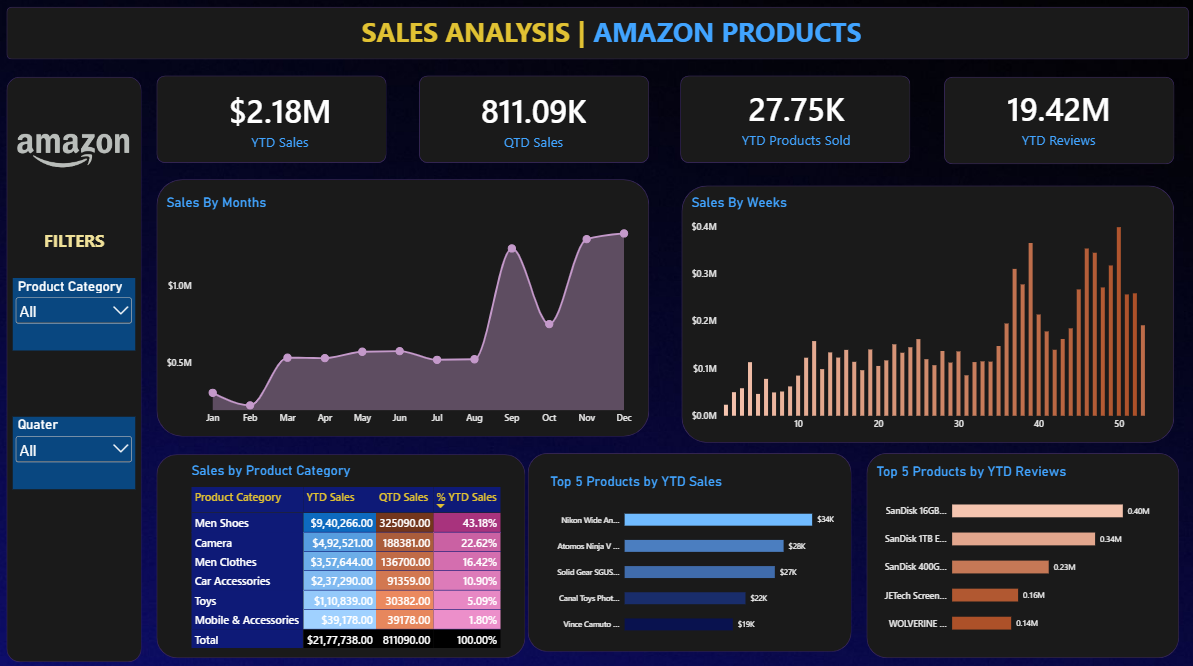

The page's visual inventory and layout, read from the dashboard file:
{"tool":"powerbi","page":{"name":"Amazon Products Sales","canvas":[1920,1080],"ordinal":0},"visuals":[{"type":"shape","box":[12.3,14.4,1891.6,84.4],"z":0},{"type":"textbox","title":"SALES ANALYSIS | AMAZON PRODUCTS","box":[580,23.3,811,63.8],"z":1000},{"type":"shape","box":[12.3,125.6,216.1,936.5],"z":2000},{"type":"shape","box":[251.1,123.5,368,140],"z":3000},{"type":"cardVisual","fields":{"Data":["Amazon_Data.YTD Sales"]},"box":[319,148.2,259.3,94.7],"z":4000},{"type":"shape","box":[671,123.5,368,140],"z":5000},{"type":"shape","box":[1090.9,123.5,368,140],"z":6000},{"type":"shape","box":[1511.7,125,368.4,140],"z":7000},{"type":"cardVisual","fields":{"Data":["Amazon_Data.QTD Sales"]},"box":[726.6,148.2,259.3,94.7],"z":8000},{"type":"cardVisual","fields":{"Data":["Amazon_Data.YTD Products Sold"]},"box":[1146.5,146.1,259.3,94.7],"z":9000},{"type":"cardVisual","fields":{"Data":["Amazon_Data.YTD Reviews"]},"box":[1566.7,146.7,259.3,94.7],"z":10000},{"type":"shape","box":[251.1,290.2,788.3,411.7],"z":11000},{"type":"stackedAreaChart","title":"Sales By Months","fields":{"Category":["Date Table.Month Name"],"Y":["Sum(Amazon_Data.Price(Dollar))"]},"box":[252,300,788,402],"z":12000},{"type":"shape","box":[1091.3,300,788.3,411.7],"z":13000},{"type":"columnChart","title":"Sales By Weeks","fields":{"Category":["Date Table.Week"],"Y":["Sum(Amazon_Data.Price(Dollar))"]},"box":[1092,300,788,412],"z":14000},{"type":"shape","box":[252.5,730,590,326],"z":15000},{"type":"pivotTable","title":"Sales by Product Category","fields":{"Rows":["Amazon_Data.Product Category"],"Values":["Amazon_Data.YTD Sales1","Amazon_Data.QTD Sales","Amazon_Data.YTD Sales"]},"box":[292.5,727.5,574,336],"z":16000},{"type":"shape","box":[846,728,518,318],"z":17000},{"type":"shape","box":[1388,728,500,328],"z":18000},{"type":"clusteredBarChart","title":"Top 5 Products by YTD Sales","fields":{"Category":["Amazon_Data.Product Description"],"Y":["Amazon_Data.YTD Sales"]},"box":[866,746,486,300],"z":19000},{"type":"clusteredBarChart","title":"Top 5 Products by YTD Reviews","fields":{"Category":["Amazon_Data.Product Description"],"Y":["Amazon_Data.YTD Reviews"]},"box":[1388,730,492,316],"z":20000},{"type":"slicer","fields":{"Values":["Amazon_Data.Product Category"]},"box":[22,448,195.7,115.7],"z":21000},{"type":"slicer","fields":{"Values":["Date Table.Qtr"]},"box":[22,670,195.7,115.7],"z":22000},{"type":"textbox","title":"SALES ANALYSIS | AMAZON PRODUCTS","box":[72,370,110,42],"z":23000},{"type":"image","box":[18,196,206,106],"z":24000}]}

Visuals, with their boxes in screenshot pixels (x1, y1, x2, y2), scaled from the page's 1920x1080 canvas onto the 1193x666 screenshot:
shape: select_region(8, 9, 1183, 61)
"SALES ANALYSIS | AMAZON PRODUCTS" textbox: select_region(360, 14, 864, 54)
shape: select_region(8, 77, 142, 655)
shape: select_region(156, 76, 385, 162)
cardVisual - Amazon_Data.YTD Sales: select_region(198, 91, 359, 150)
shape: select_region(417, 76, 646, 162)
shape: select_region(678, 76, 906, 162)
shape: select_region(939, 77, 1168, 163)
cardVisual - Amazon_Data.QTD Sales: select_region(451, 91, 613, 150)
cardVisual - Amazon_Data.YTD Products Sold: select_region(712, 90, 873, 148)
cardVisual - Amazon_Data.YTD Reviews: select_region(973, 90, 1135, 149)
shape: select_region(156, 179, 646, 433)
"Sales By Months" stackedAreaChart: select_region(157, 185, 646, 433)
shape: select_region(678, 185, 1168, 439)
"Sales By Weeks" columnChart: select_region(679, 185, 1168, 439)
shape: select_region(157, 450, 523, 651)
"Sales by Product Category" pivotTable: select_region(182, 449, 538, 656)
shape: select_region(526, 449, 848, 645)
shape: select_region(862, 449, 1173, 651)
"Top 5 Products by YTD Sales" clusteredBarChart: select_region(538, 460, 840, 645)
"Top 5 Products by YTD Reviews" clusteredBarChart: select_region(862, 450, 1168, 645)
slicer - Amazon_Data.Product Category: select_region(14, 276, 135, 348)
slicer - Date Table.Qtr: select_region(14, 413, 135, 485)
"SALES ANALYSIS | AMAZON PRODUCTS" textbox: select_region(45, 228, 113, 254)
image: select_region(11, 121, 139, 186)
